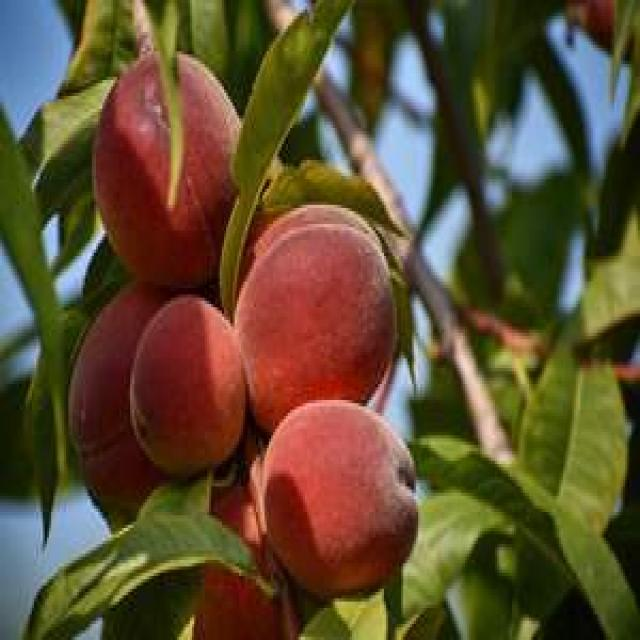peach: (73, 0, 439, 640)
